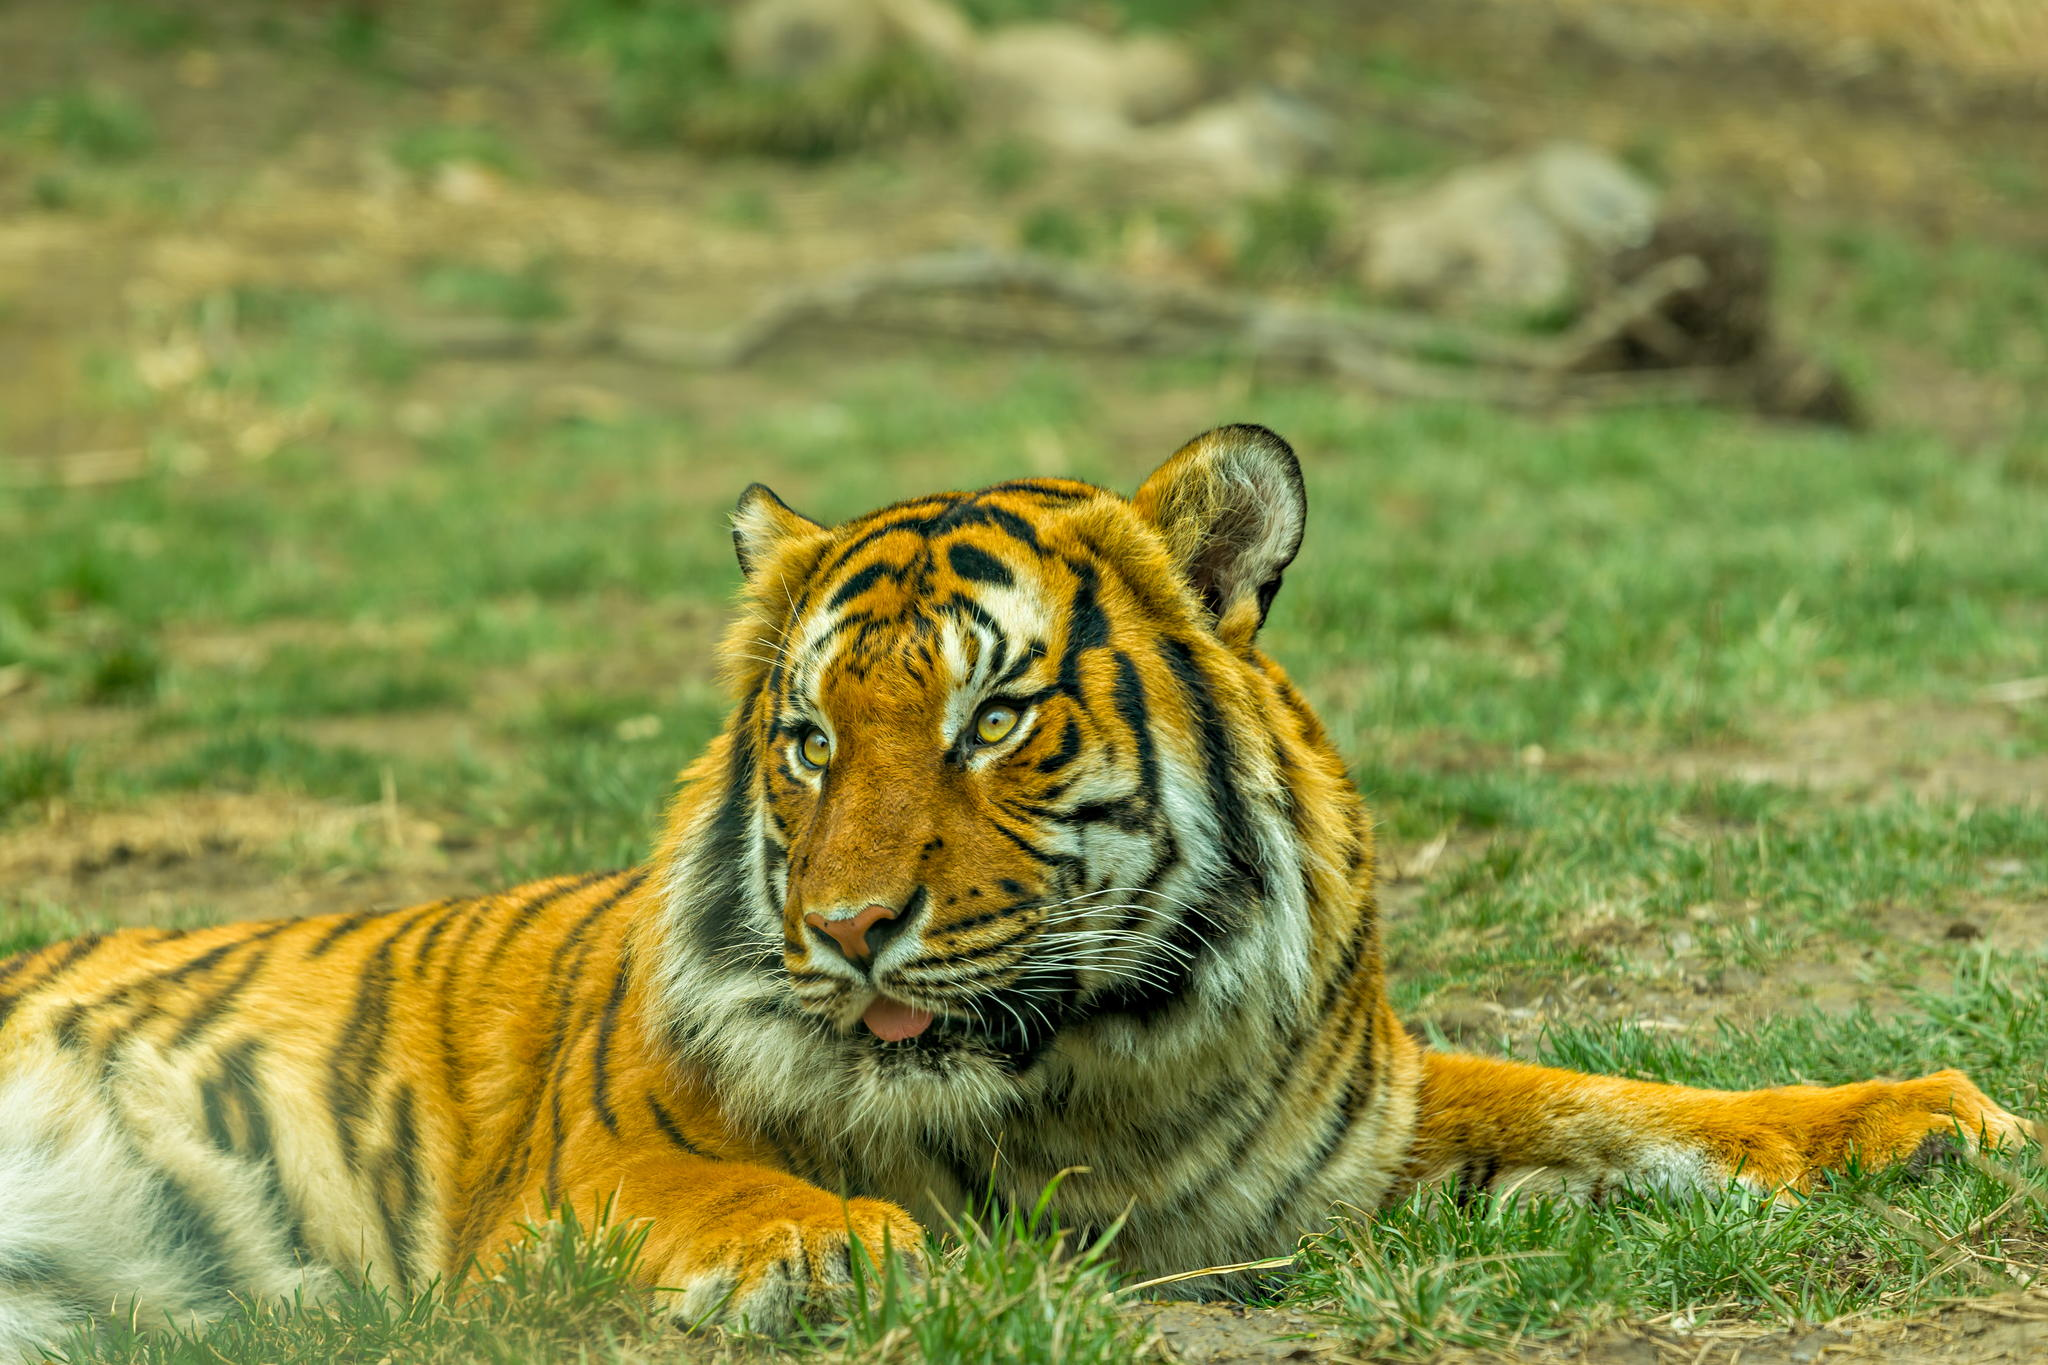tiger: (81, 402, 1597, 1271)
